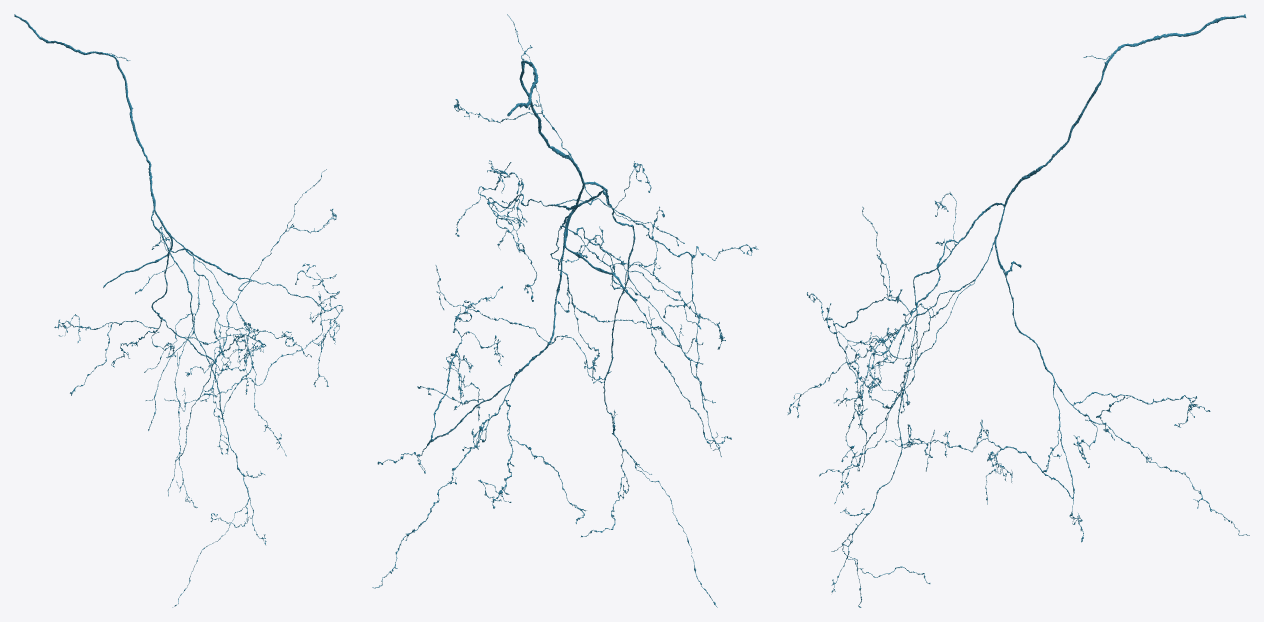
The model's file is example_LMAN.glb.
3 views of the same model, side by side, from view 1: azimuth 30°, elevation 25°; view 2: azimuth 150°, elevation 25°; view 3: azimuth 270°, elevation 25° (orthographic). The views are drawn at different scales.
Parts seen in each view (by area): view 1: 436157555_lman_cell; view 2: 436157555_lman_cell; view 3: 436157555_lman_cell.
Boxes of the visible parts, box(x1,y1,x2,y2) form: 436157555_lman_cell: box(14, 14, 343, 607); 436157555_lman_cell: box(372, 14, 758, 607); 436157555_lman_cell: box(787, 14, 1249, 607).
Size of the model in its own units: 1.3 by 3.17 by 2.24.
